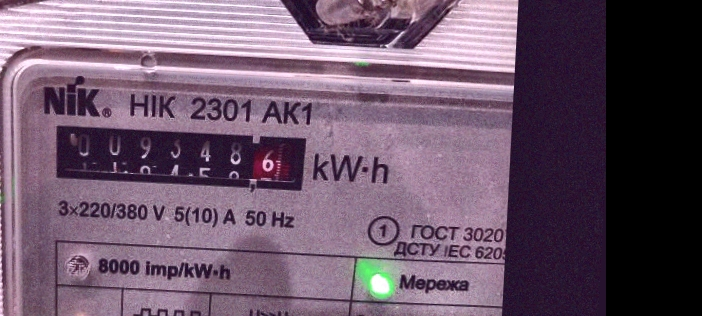0: (75, 130, 90, 157), (105, 132, 122, 155)
3: (166, 134, 182, 161)
4: (196, 135, 212, 163)
6: (258, 146, 276, 173)
8: (226, 138, 242, 167)
9: (135, 133, 152, 160)
screen: (43, 116, 315, 199)
